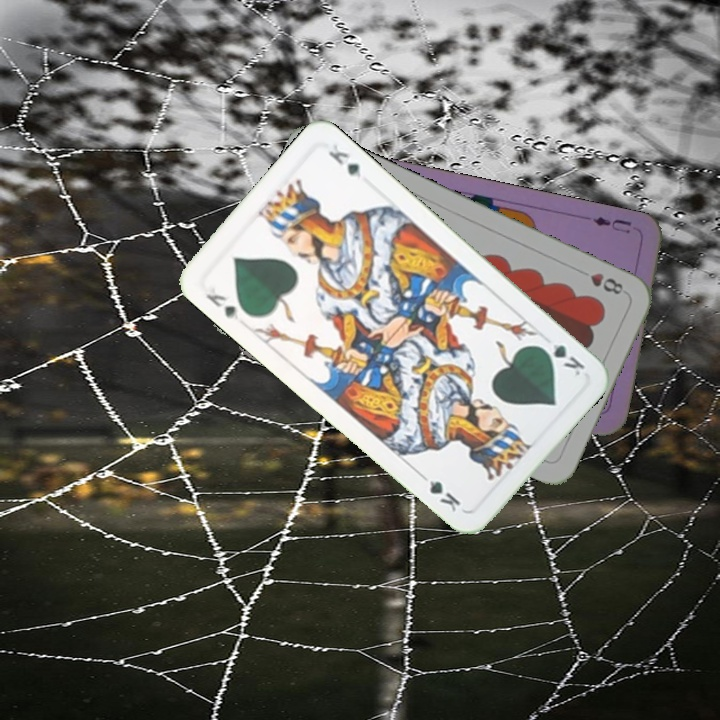EU: (589, 212, 634, 237)
GK: (534, 337, 588, 379), (202, 289, 243, 323)
H8: (574, 265, 626, 298)
